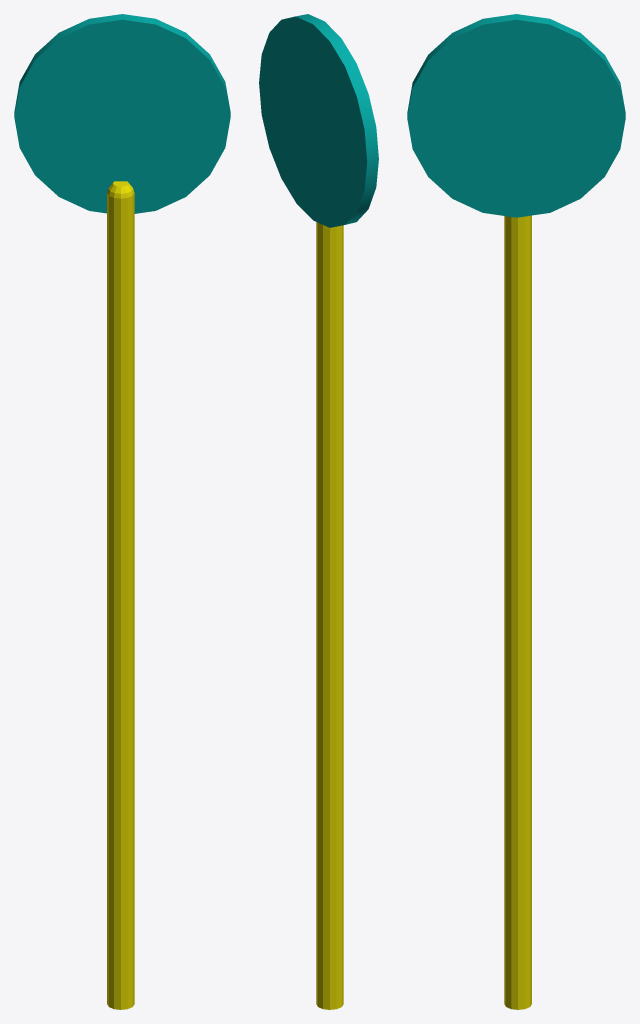
The model's file is _ANM_Sign.fbx.
3 views of the same model, side by side, from view 1: azimuth 90°, elevation 25°; view 2: azimuth 210°, elevation 25°; view 3: azimuth 270°, elevation 25° (orthographic).
Parts seen in each view (by area): view 1: ANM_ArrowSign, CNT_WarningSignRod; view 2: CNT_WarningSignRod, ANM_ArrowSign; view 3: ANM_ArrowSign, CNT_WarningSignRod.
Boxes of the visible parts, x1,y1,x2,y2 form: ANM_ArrowSign: (14,14,230,213); CNT_WarningSignRod: (107,181,134,1009); CNT_WarningSignRod: (316,222,343,1009); ANM_ArrowSign: (259,14,378,227); ANM_ArrowSign: (407,14,625,217); CNT_WarningSignRod: (504,215,531,1009).
Bounding box in the file's own units: 0.7158 × 24.1 × 4.81.
